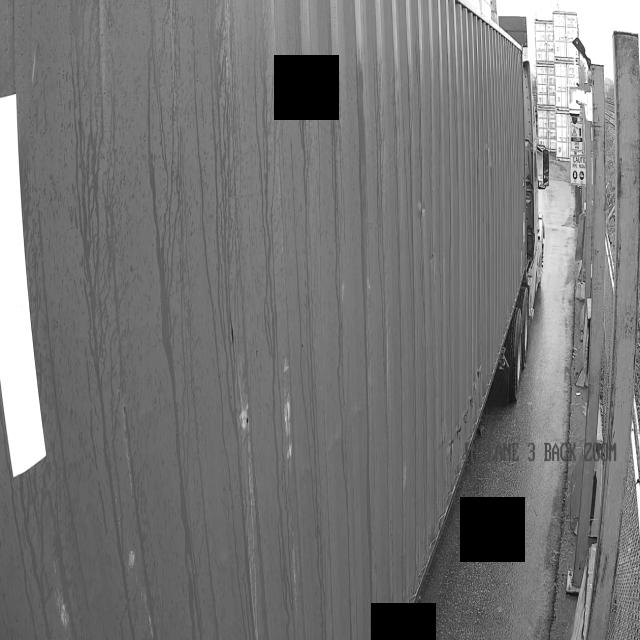truck_with_container: (0, 0, 526, 640)
